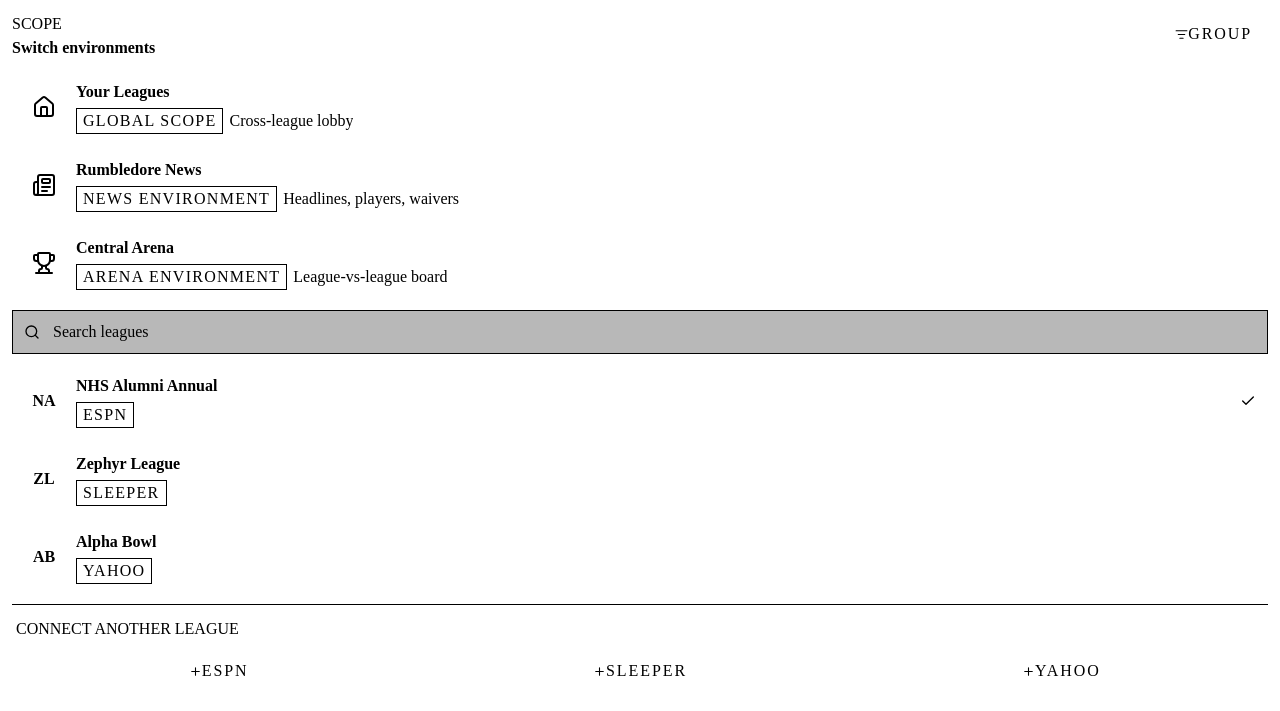
Test: LeagueSwitcherView › regroups by provider only after the group toggle is enabled
What coordinates should you click on to do the following:
click the button "Group"
I would click on:
 (1214, 34)
Its box is left=1159, top=12, right=1268, bottom=56.
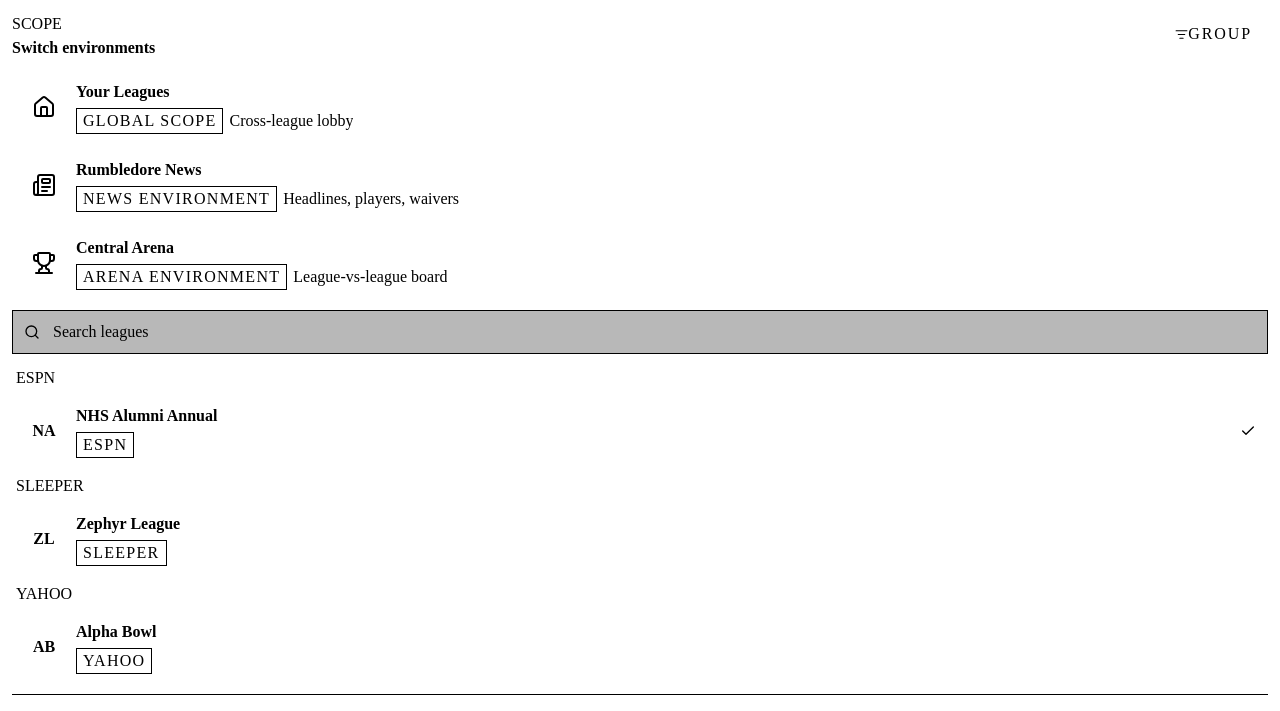
Expected: the heading "ESPN" is shown, left=16, top=369, right=55, bottom=386
Expected: the heading "Sleeper" is shown, left=16, top=477, right=84, bottom=494
Expected: the heading "Yahoo" is shown, left=16, top=585, right=72, bottom=602
